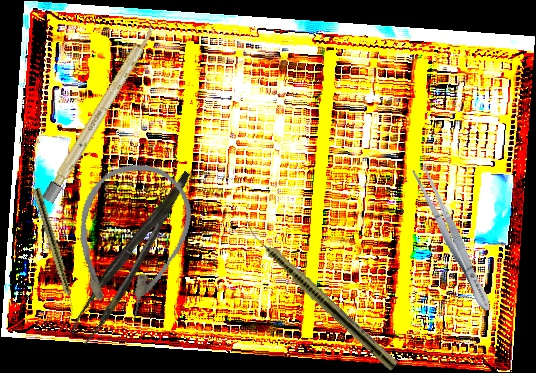Cannula: (58, 152, 202, 329)
Dressing Forceps: (409, 163, 497, 315)
Handpiece: (236, 217, 402, 373), (30, 187, 80, 317)
Scalpel Handle: (41, 23, 158, 204)
Tissue Forceps: (60, 170, 211, 346)
